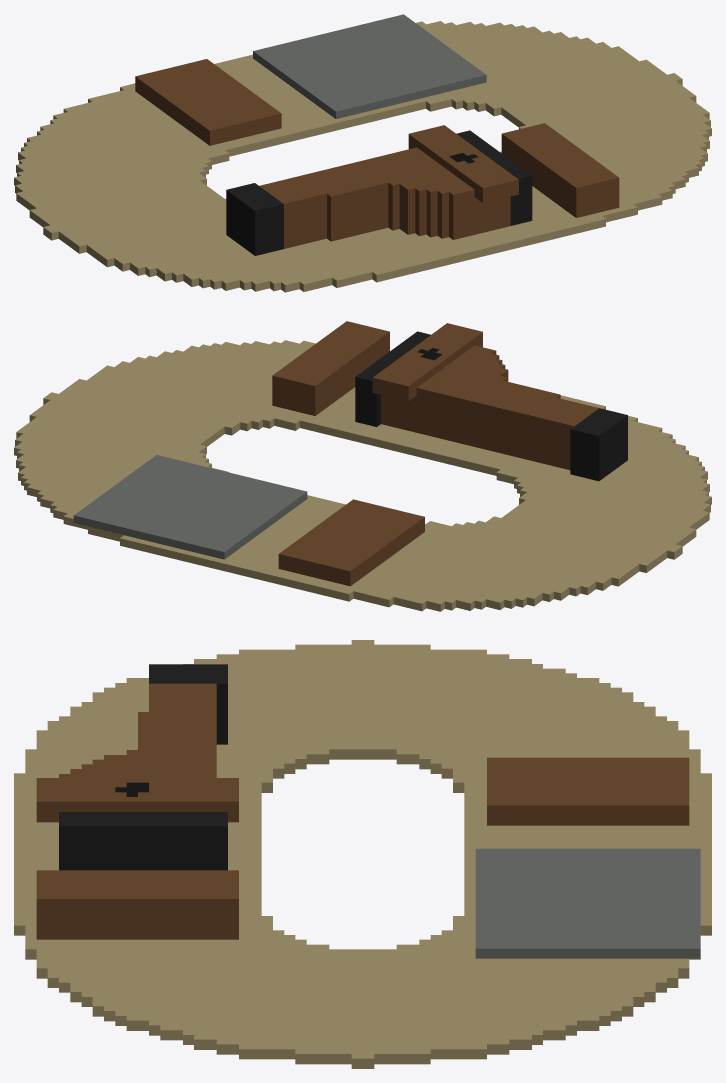
The model's file is bholster.glb.
3 views of the same model, one above another, from view 1: azimuth 30°, elevation 25°; view 2: azimuth 150°, elevation 25°; view 3: azimuth 270°, elevation 25° (orthographic). The views are drawn at different scales.
Parts seen in each view (by area): view 1: bholster:compound; view 2: bholster:compound; view 3: bholster:compound.
Boxes of the visible parts, bbox=[...] form: bholster:compound: bbox=[14, 14, 711, 292]; bholster:compound: bbox=[14, 321, 711, 611]; bholster:compound: bbox=[14, 640, 711, 1068].
Size of the model in its own units: 0.352 by 0.032 by 0.248.
